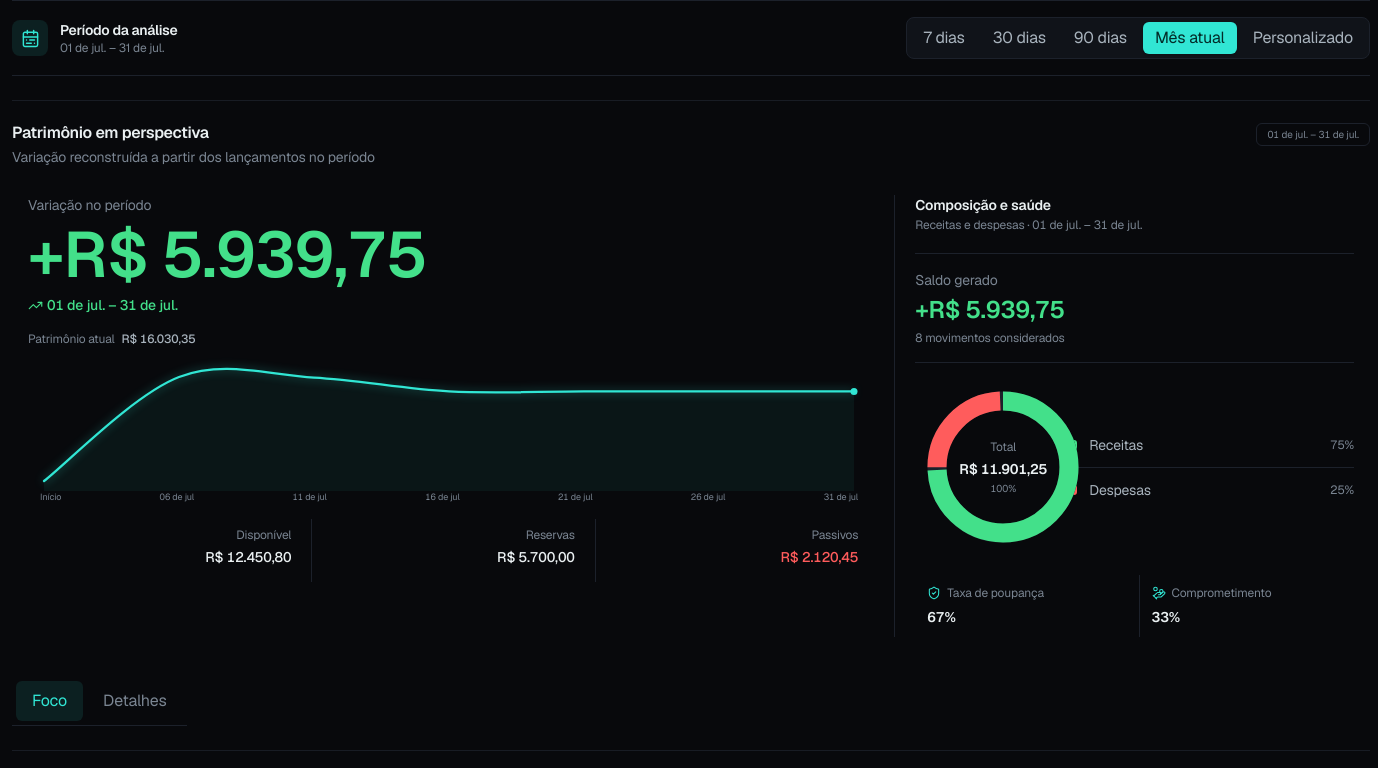
it: FinanceDashboard period filter › updates totals for quick and custom periods
Step 1. Click the button "7 dias" → (944, 38), box [911,22,977,54]
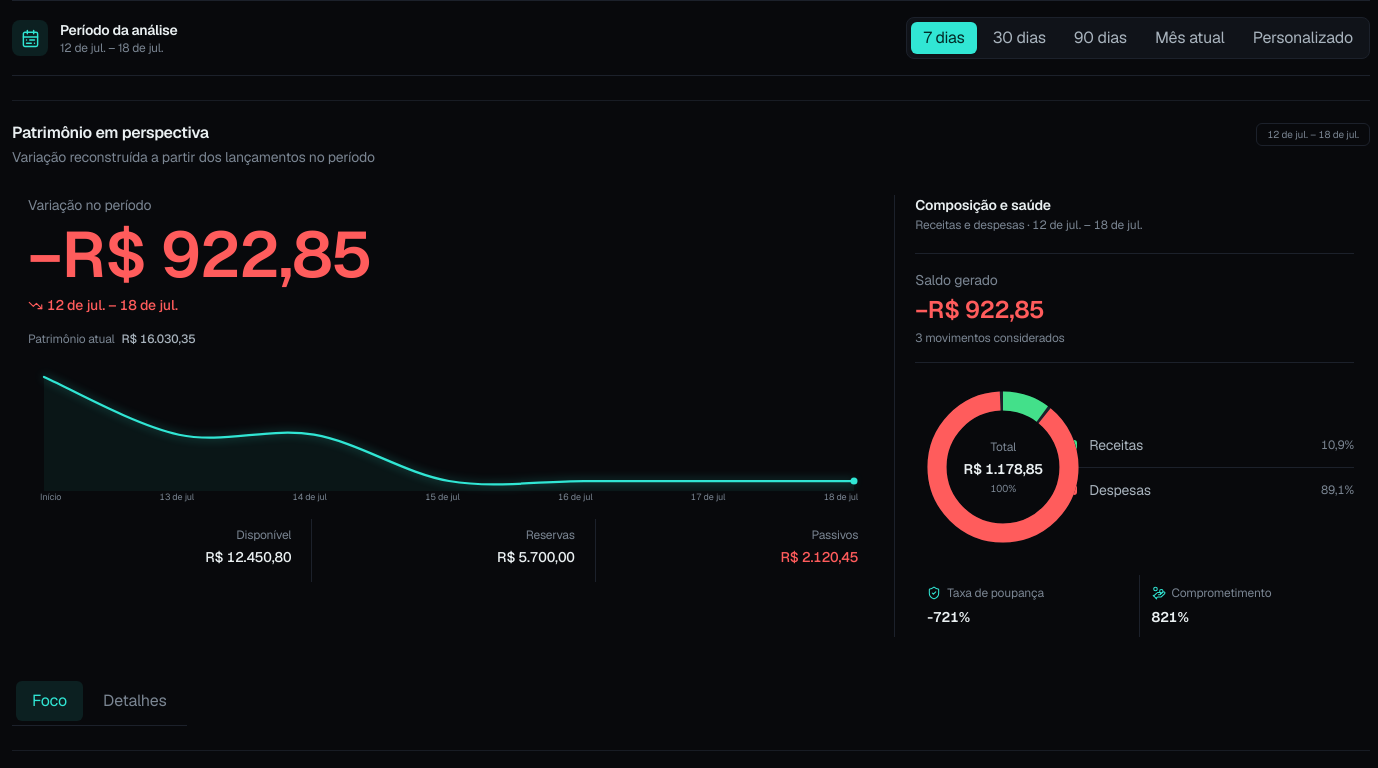
Expected: the text "Variação no período" is shown, [28,196,151,214]
Expected: the text "−R$ 922,85" below "Variação no período" is shown, [28,213,371,296]
Step 2. Click the button "Personalizado" → (1303, 38), box [1241,22,1365,54]
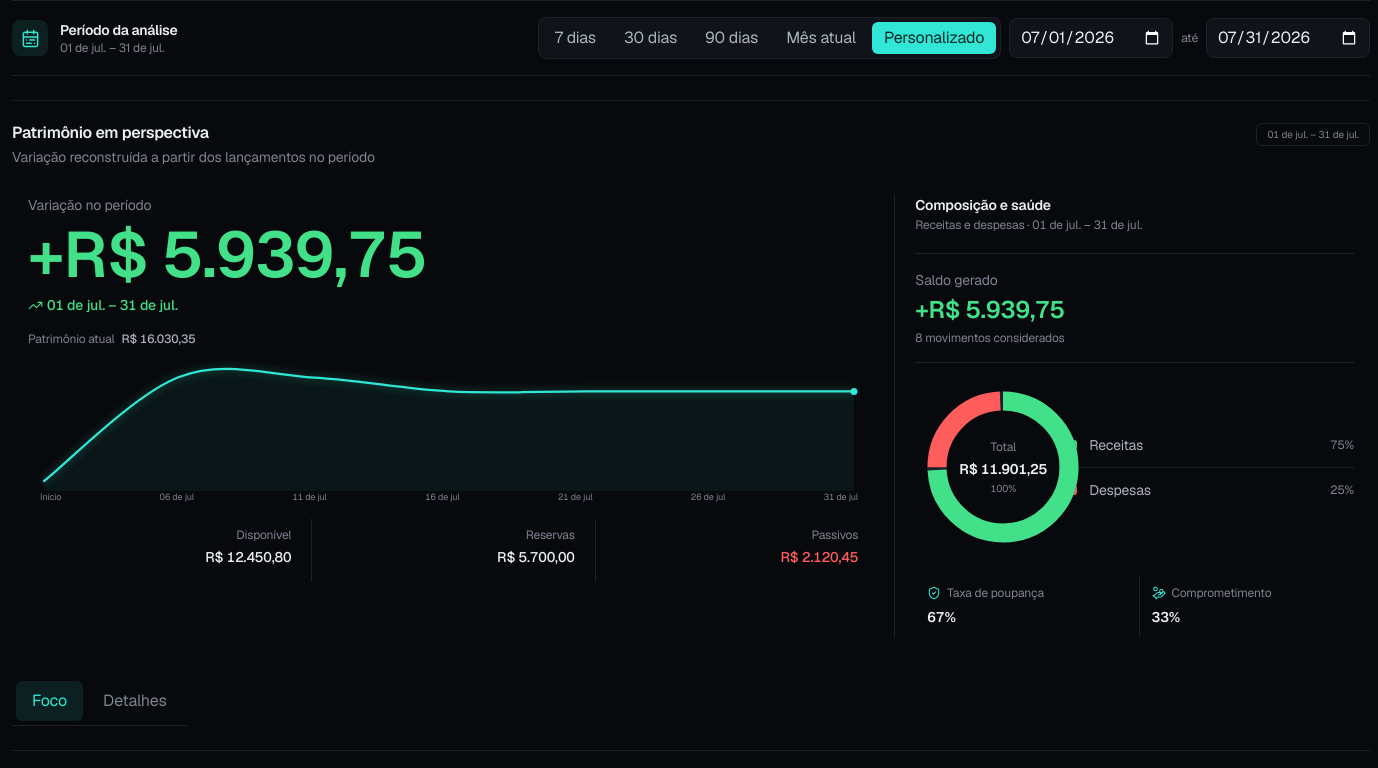
Step 3. Type "2026-07-05" into the 1st date field named "Data inicial" → (1091, 38), box [1009,18,1173,58]
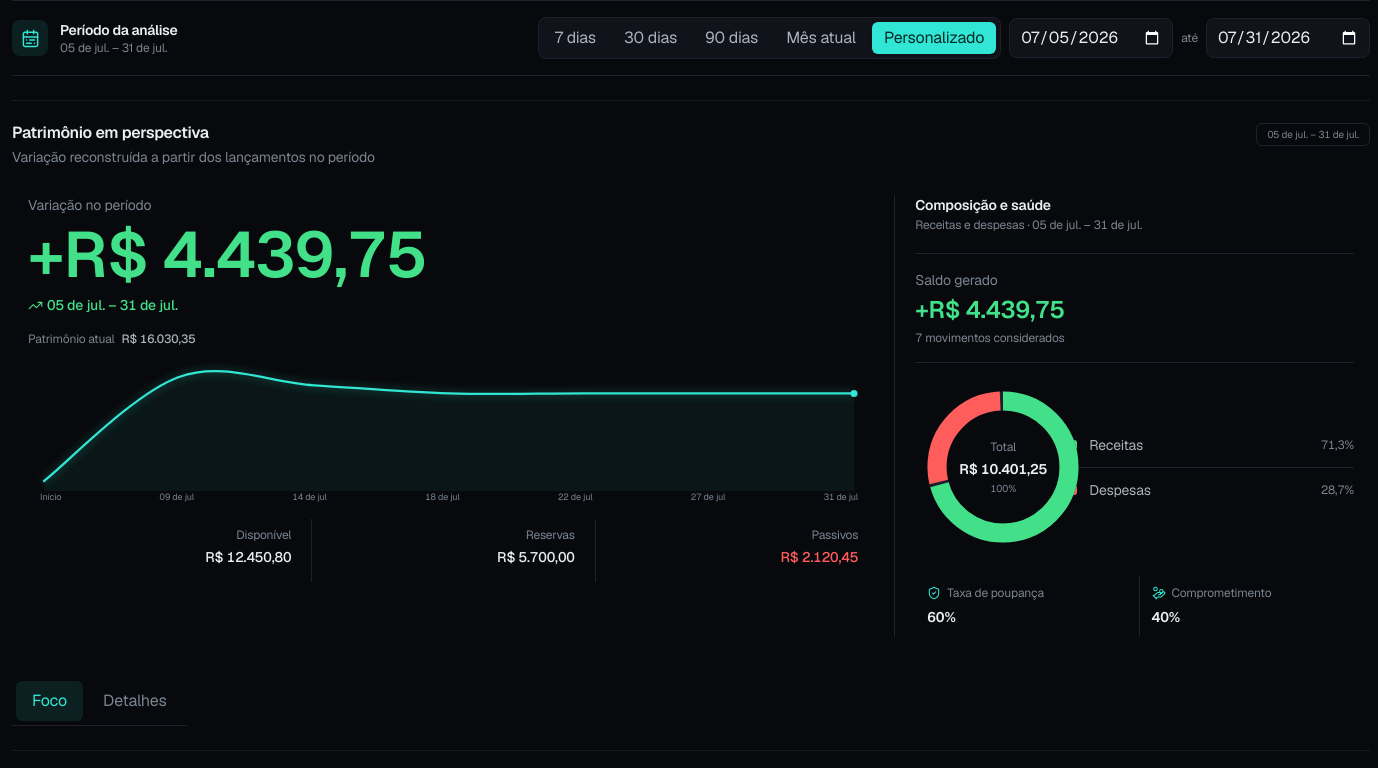
Step 4. Type "2026-07-12" into the 2nd date field named "Data final" → (1288, 38), box [1206,18,1370,58]
(page scrolled)
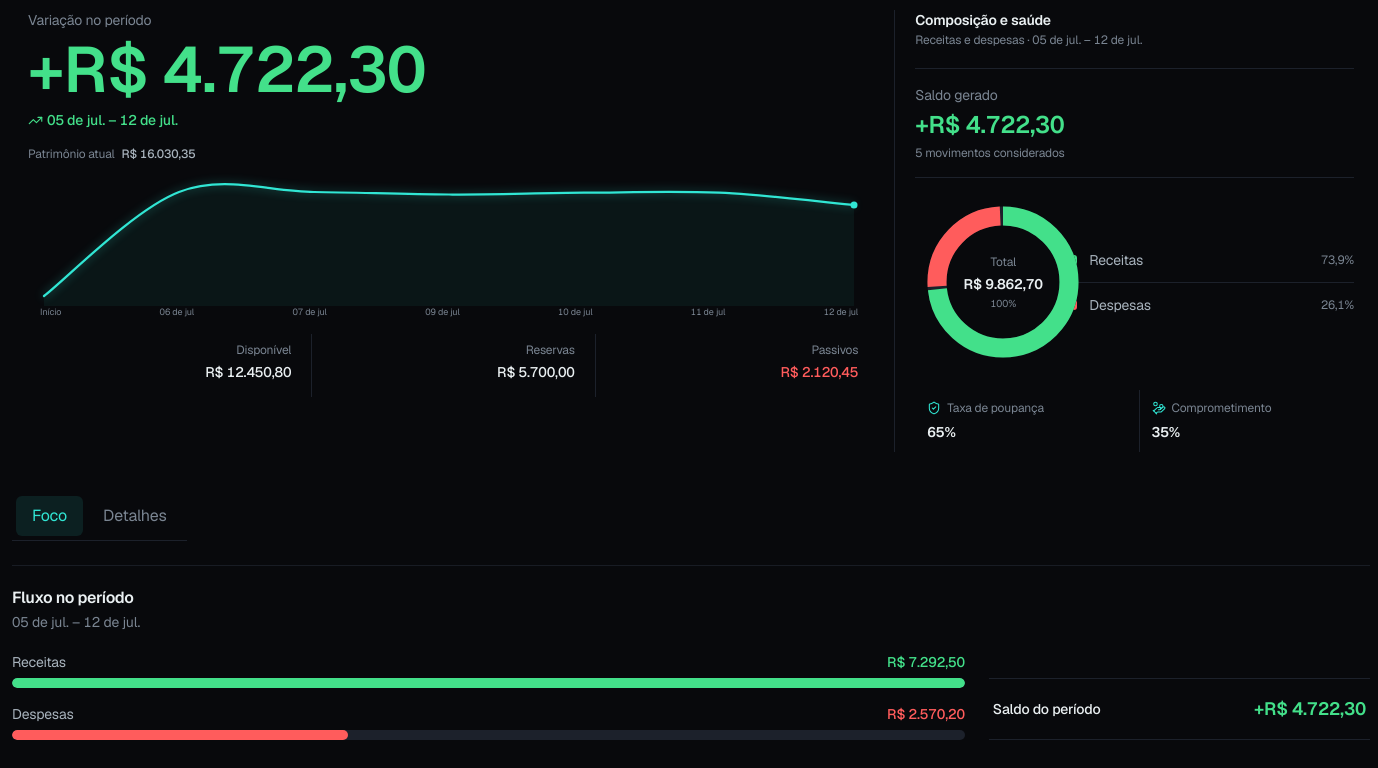
Expected: the text "R$ 7.292,50" is shown, [887,652,965,672]
Expected: the text "R$ 2.570,20" is shown, [887,704,965,724]
